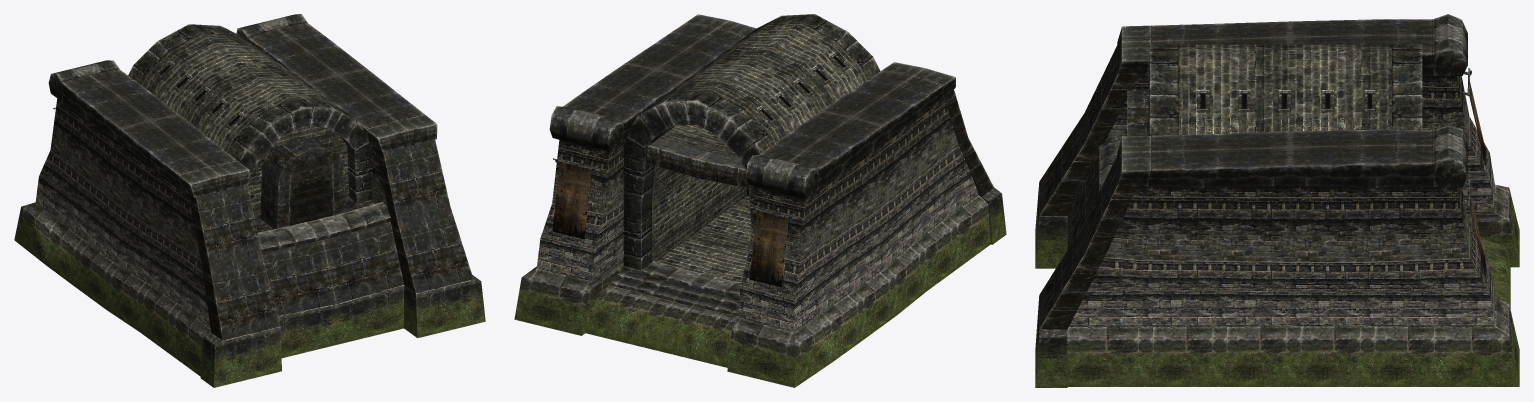
File: OZ_09_mi_acces01A.glb
The picture shows the model from 3 angles, left to right: view 1: azimuth 30°, elevation 25°; view 2: azimuth 150°, elevation 25°; view 3: azimuth 270°, elevation 25°; orthographic projection. The views are drawn at different scales.
Visible parts, largest first — view 1: OM_09_mi_acces01A; view 2: OM_09_mi_acces01A; view 3: OM_09_mi_acces01A.
Boxes of the visible parts, x1,y1,x2,y2 form: OM_09_mi_acces01A: [14, 14, 485, 387]; OM_09_mi_acces01A: [514, 14, 1006, 387]; OM_09_mi_acces01A: [1035, 14, 1519, 387].
Size of the model in its own units: 21.89 by 16.35 by 28.01.
3 materials, 3 textured.
